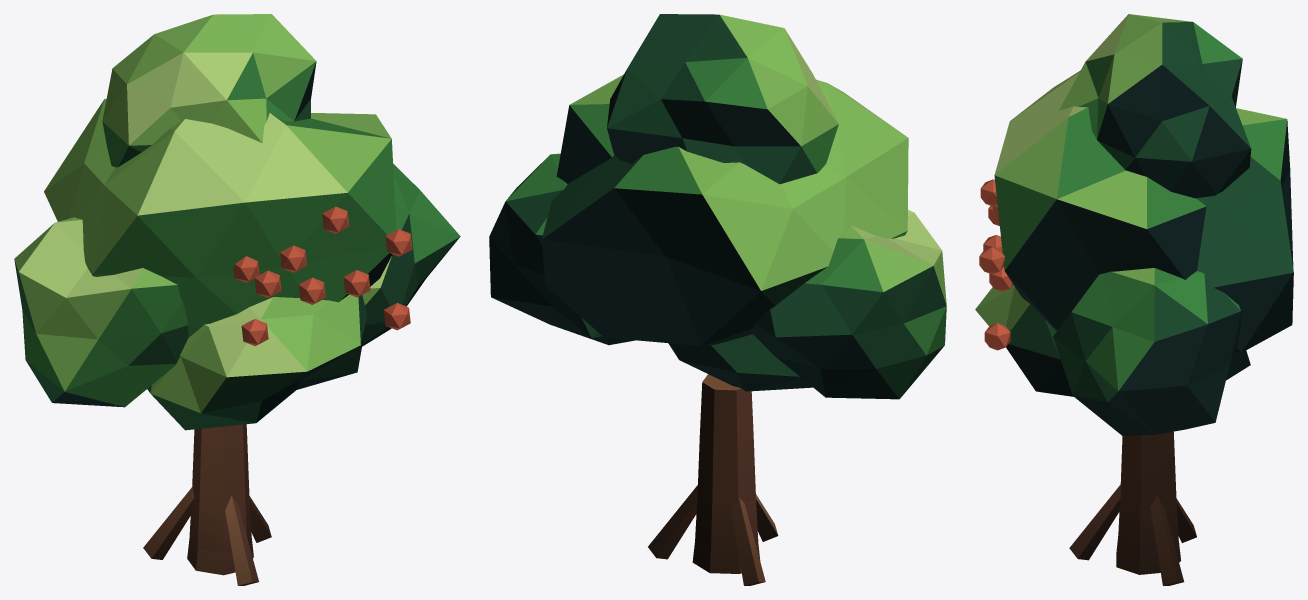
File: tree_apple.glb
The picture shows the model from 3 angles, left to right: view 1: azimuth 30°, elevation 25°; view 2: azimuth 150°, elevation 25°; view 3: azimuth 270°, elevation 25°; orthographic projection. The views are drawn at different scales.
Visible parts, largest first — view 1: tree_apple; view 2: tree_apple; view 3: tree_apple.
Boxes of the visible parts, <box> form: tree_apple: <box>14,14,460,585</box>; tree_apple: <box>489,14,946,585</box>; tree_apple: <box>975,14,1293,585</box>.
Size of the model in its own units: 1.29 by 1.57 by 0.8395.
